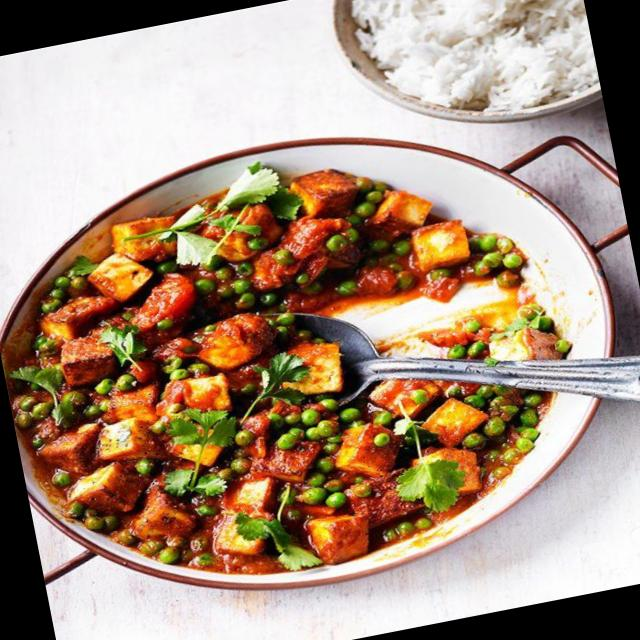rice: (386, 0, 595, 98)
